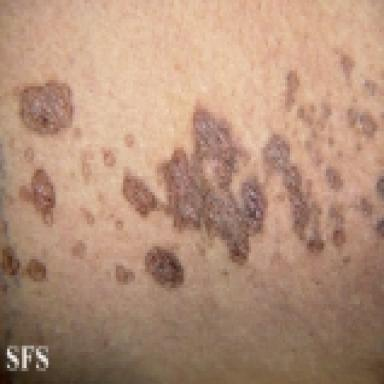Porokeratosis: (124, 108, 265, 262), (263, 135, 325, 251), (20, 81, 73, 133), (297, 102, 338, 166), (19, 169, 55, 223), (145, 247, 183, 286), (348, 108, 377, 136), (335, 49, 355, 86), (329, 206, 346, 246), (285, 71, 299, 110), (3, 247, 19, 275), (26, 259, 46, 280), (325, 167, 343, 189), (361, 77, 380, 97), (115, 265, 135, 283), (355, 197, 373, 217), (80, 208, 95, 226), (72, 240, 86, 258), (102, 148, 116, 166), (376, 175, 384, 200), (24, 147, 34, 162), (125, 133, 135, 147), (377, 219, 384, 237), (115, 219, 125, 231)
